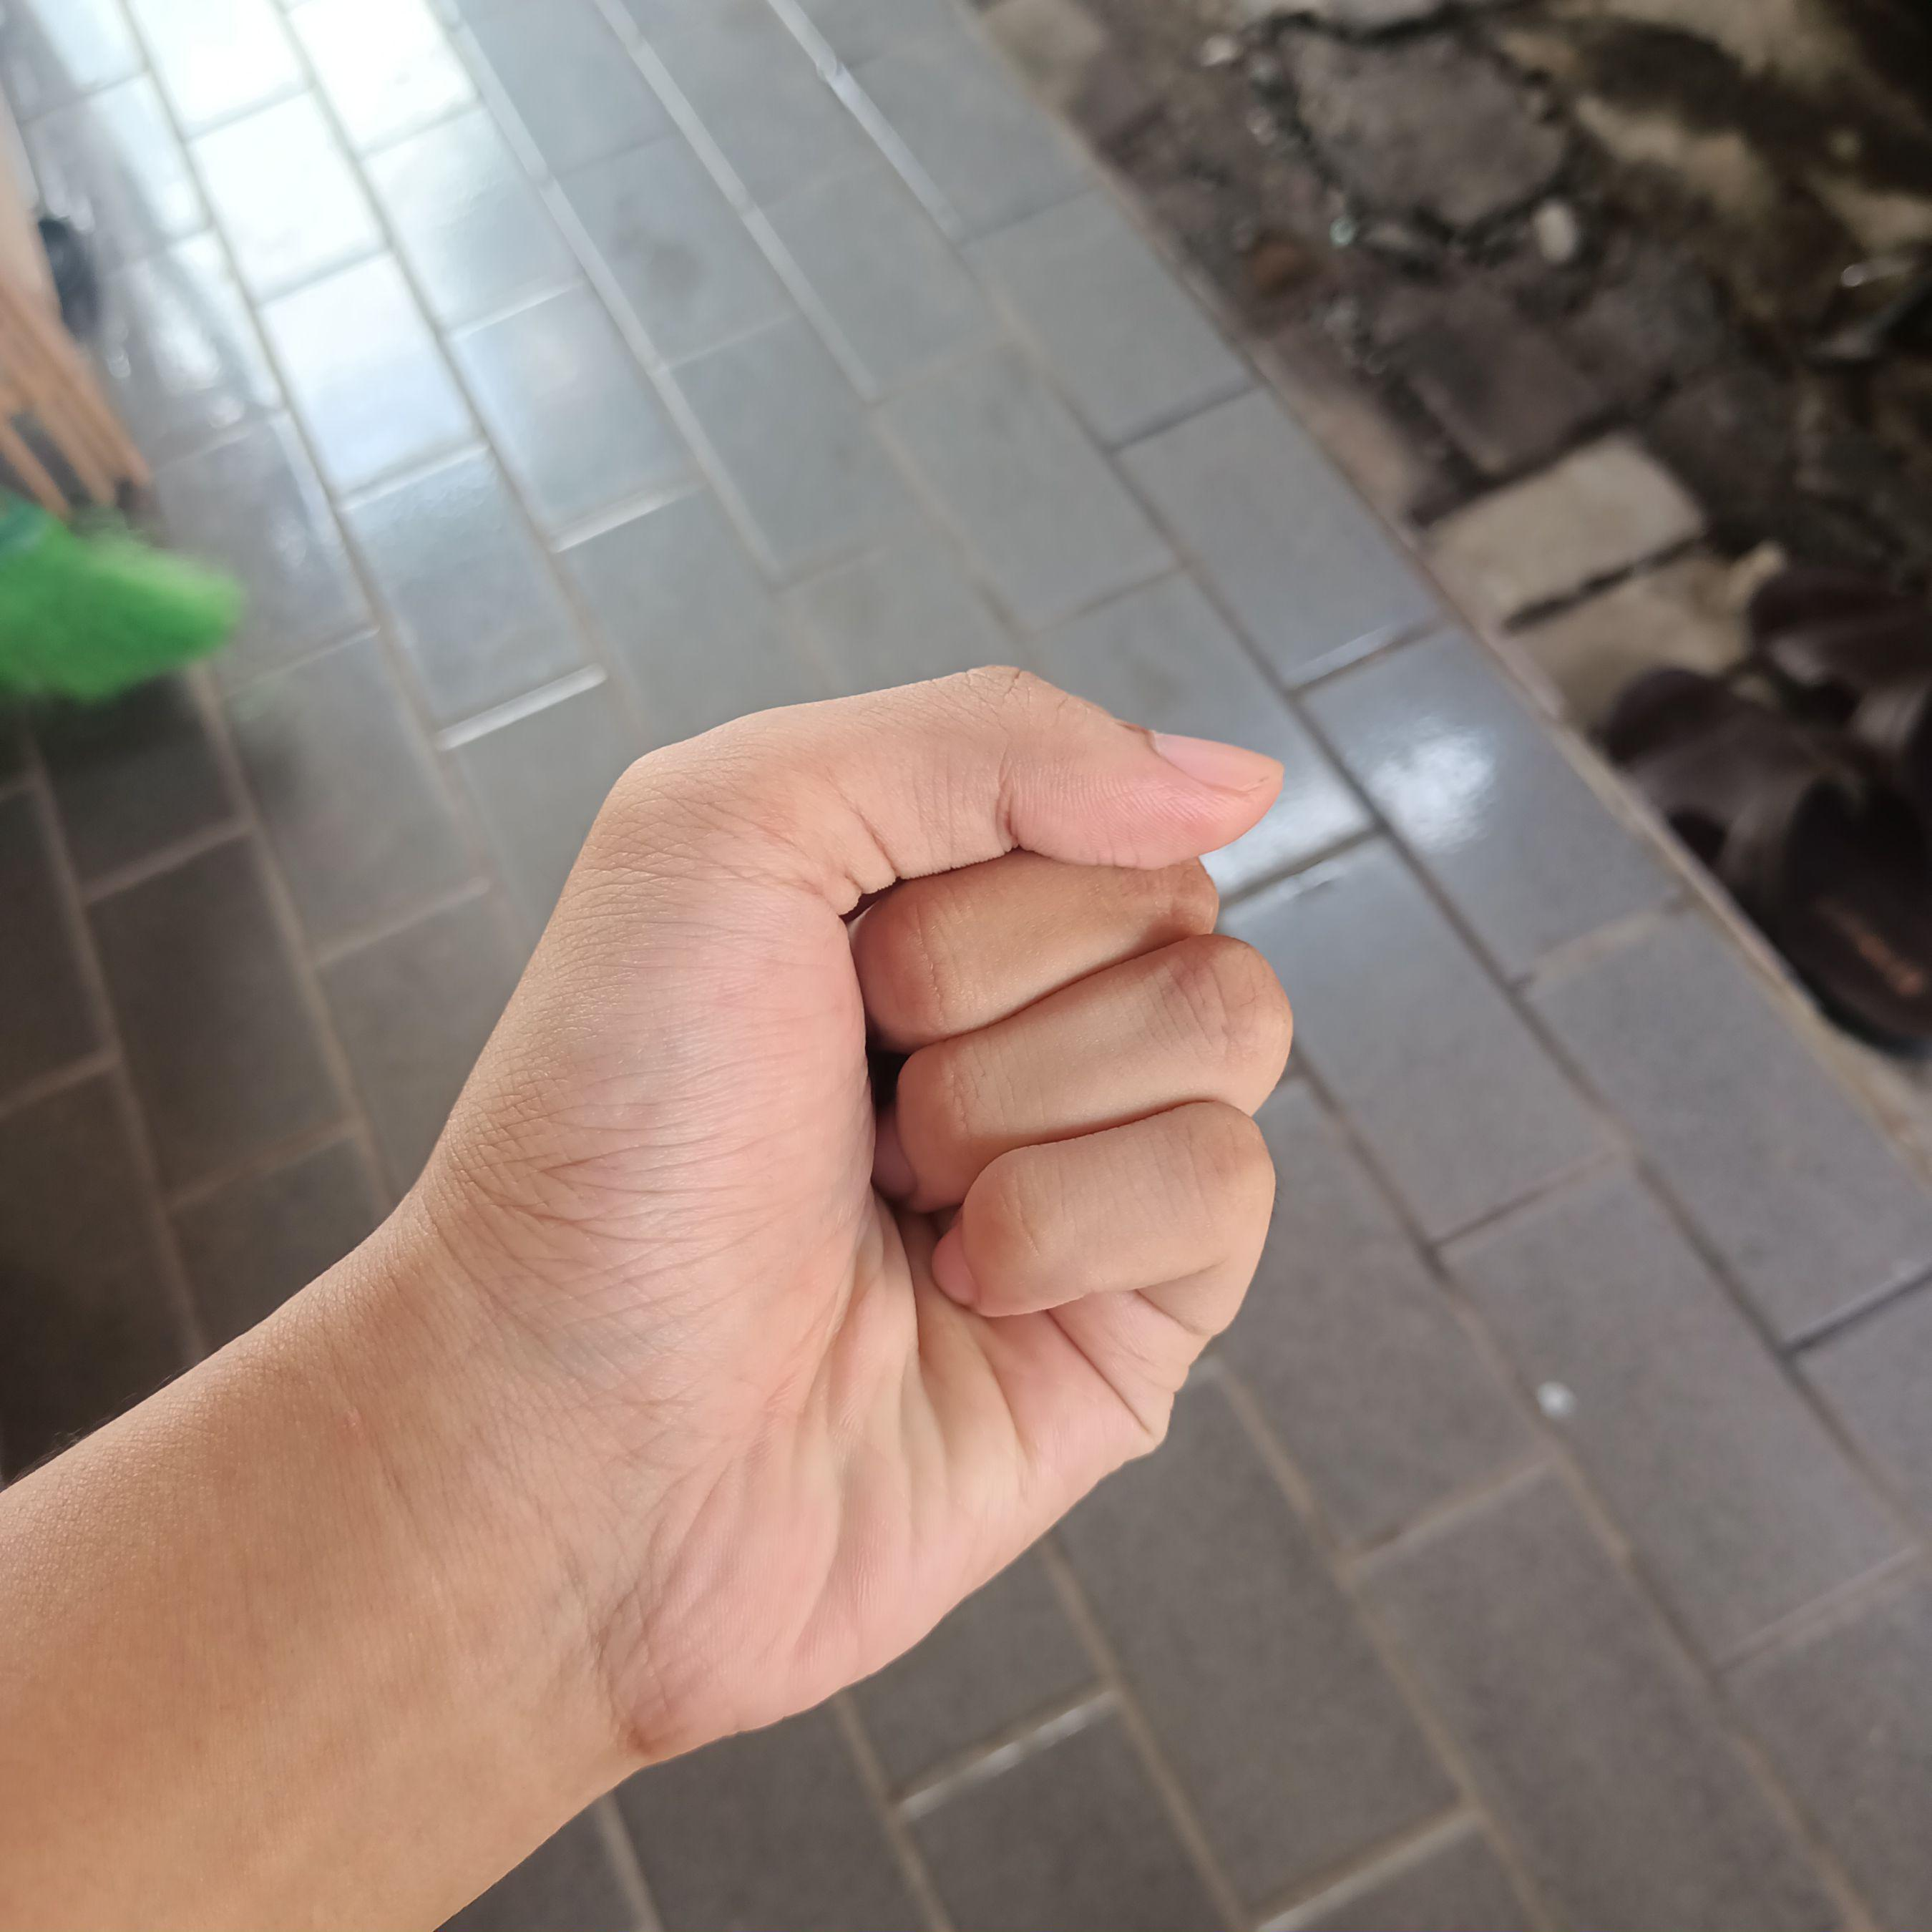rock: (326, 644, 1307, 1808)
